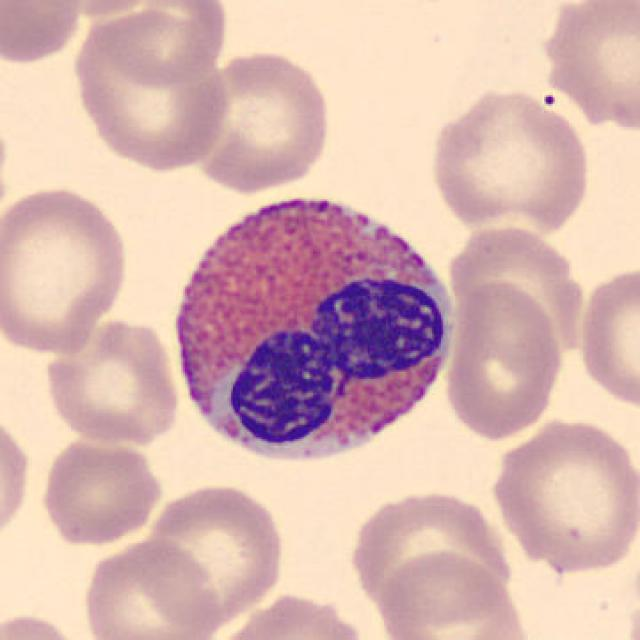Eosinophil: (158, 168, 471, 482)
RBC: (68, 9, 234, 174), (423, 84, 594, 234), (487, 414, 638, 576), (0, 181, 133, 358), (345, 485, 514, 622), (187, 46, 334, 196), (142, 478, 288, 628), (443, 277, 565, 442), (448, 221, 585, 362), (41, 316, 183, 448), (36, 432, 166, 548), (78, 534, 220, 640), (373, 548, 535, 640), (535, 0, 640, 134), (91, 0, 233, 88), (574, 261, 640, 414), (208, 589, 373, 640), (0, 0, 87, 67), (0, 405, 34, 552), (0, 608, 91, 640), (19, 0, 168, 19)
